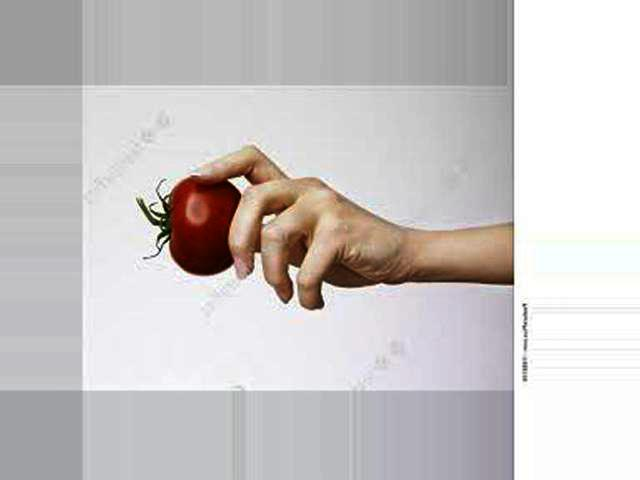tomato: (138, 177, 240, 274)
